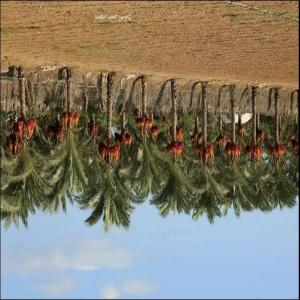palm tree: (0, 66, 299, 232)
